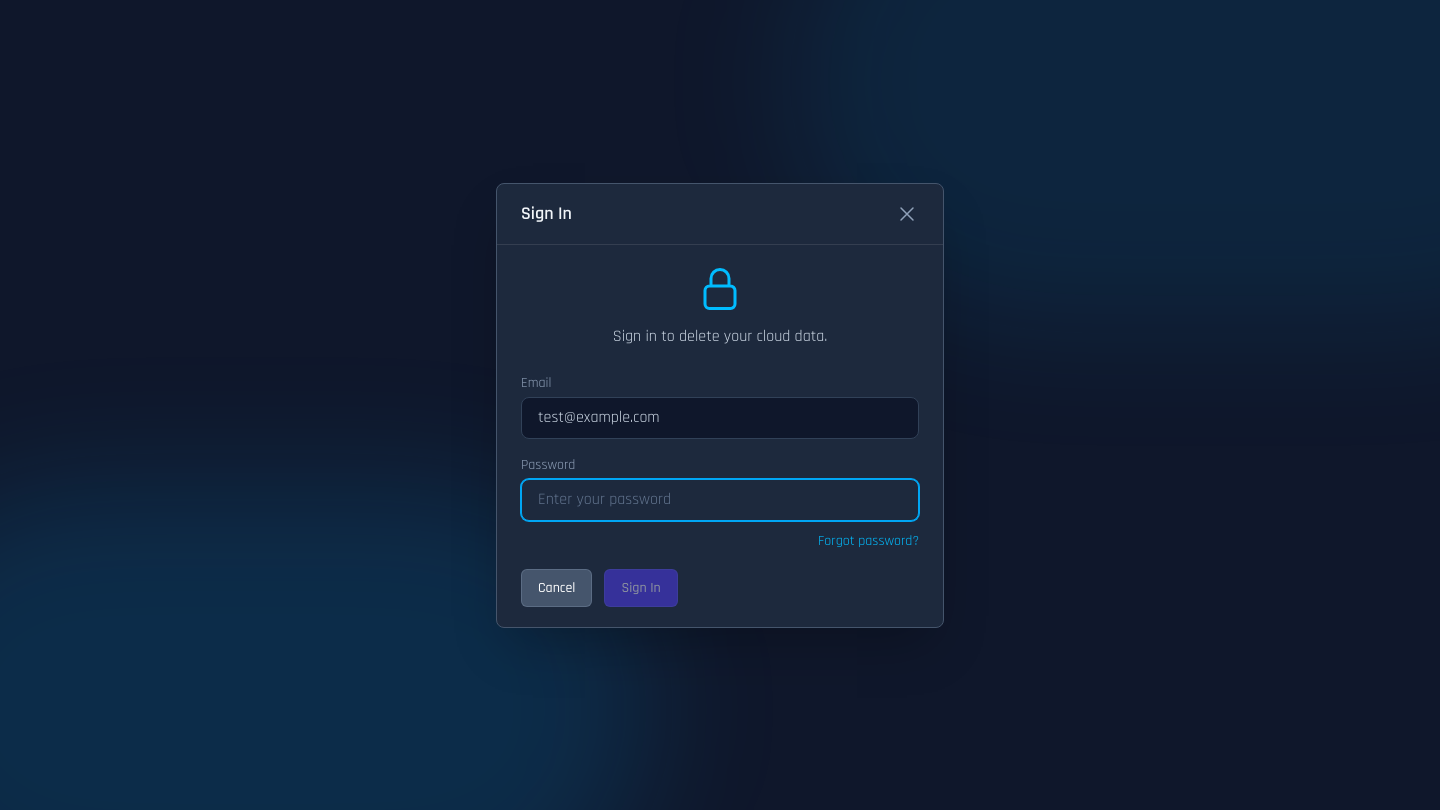
Scenario: CloudAuthModal › confirm step › should show warning about data deletion
Type "testpassword" into the password field with placeholder "Enter your password" at [720, 500], box [521, 478, 919, 520]
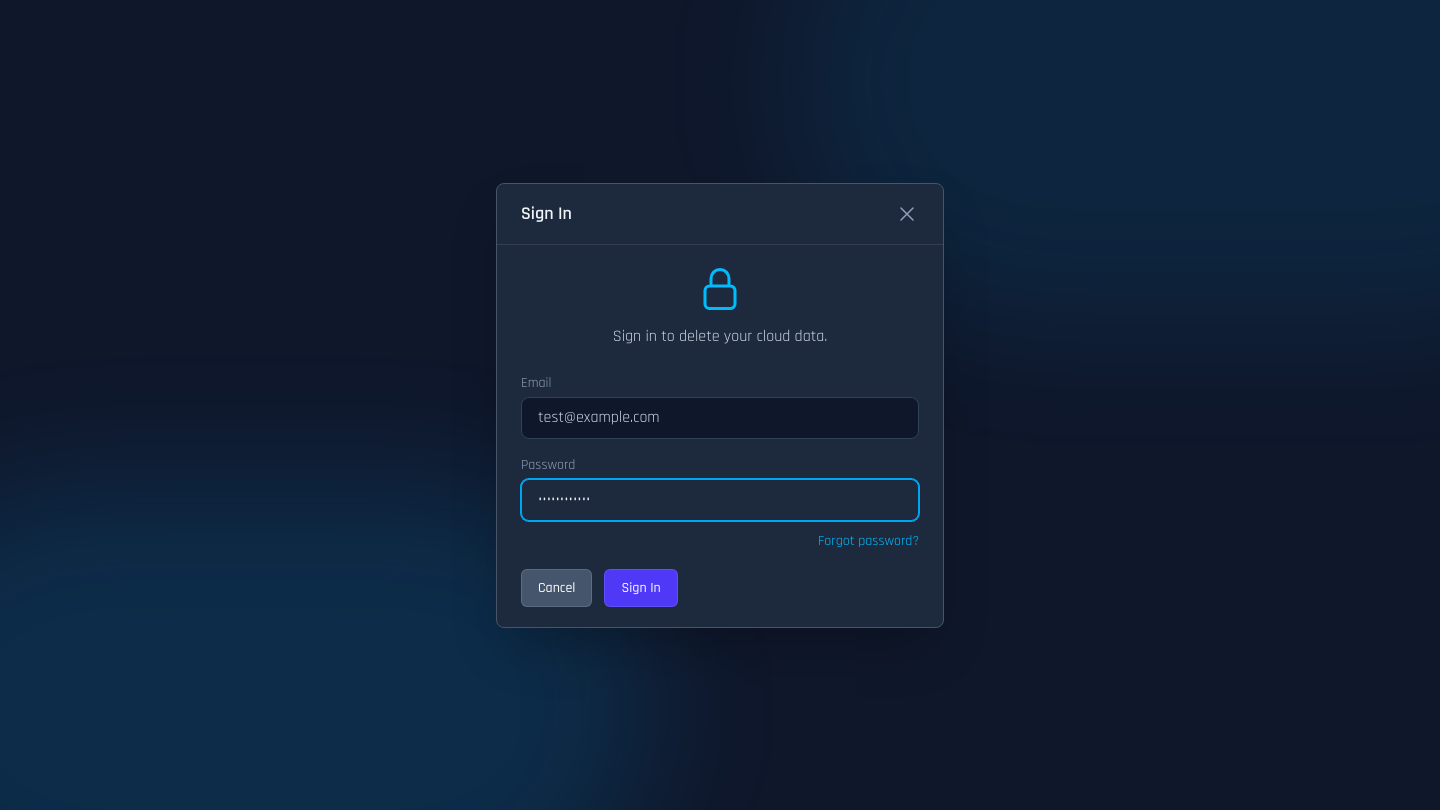
Click the button "Sign In" at [641, 588], box [604, 568, 678, 606]
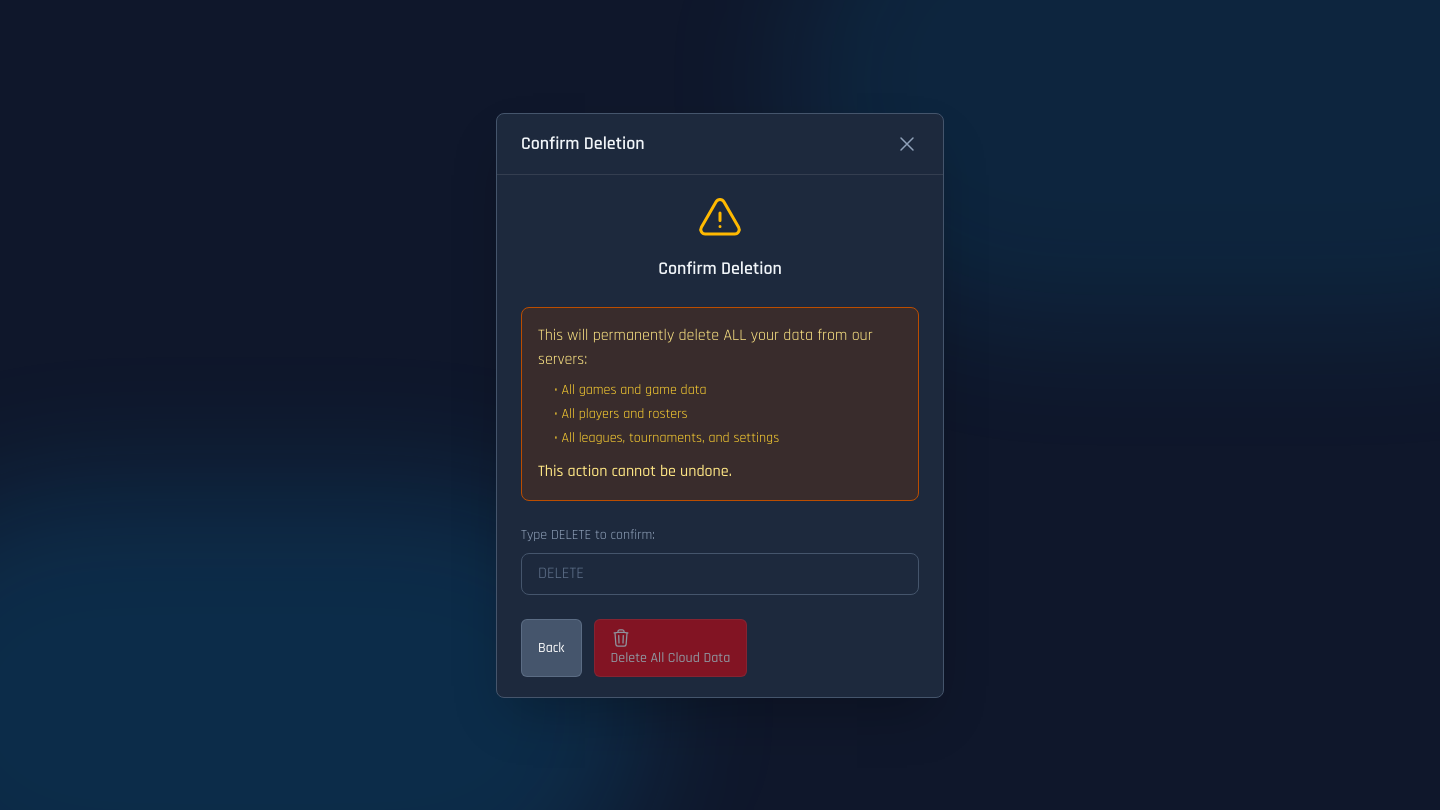
Result: the 1st heading "Confirm Deletion" is shown at [521, 130, 645, 158]
Result: the text "This will permanently delete ALL your data from our servers:" is shown at [538, 324, 902, 372]
Result: the text "This action cannot be undone." is shown at [538, 460, 732, 482]
